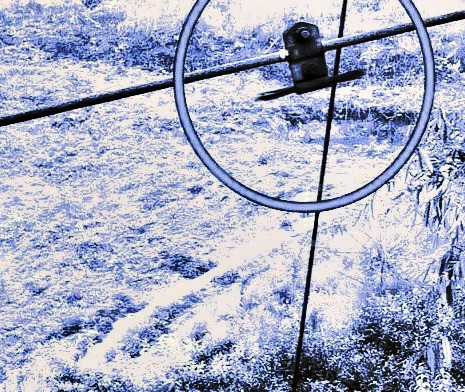Damage of shockproof hammer: (257, 14, 373, 112)
